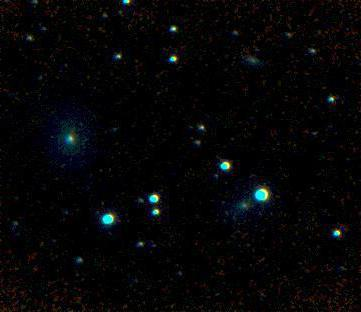star: (87, 187, 117, 217)
